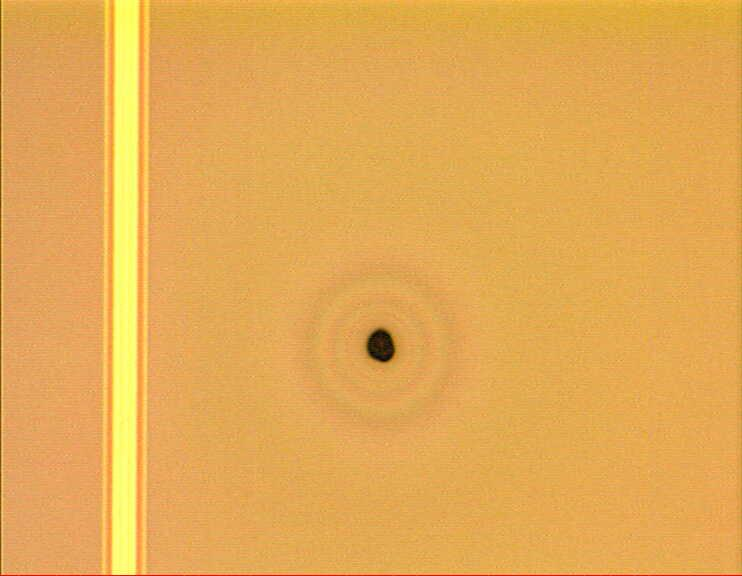PIQ PARTICLE: (362, 327, 402, 367)
